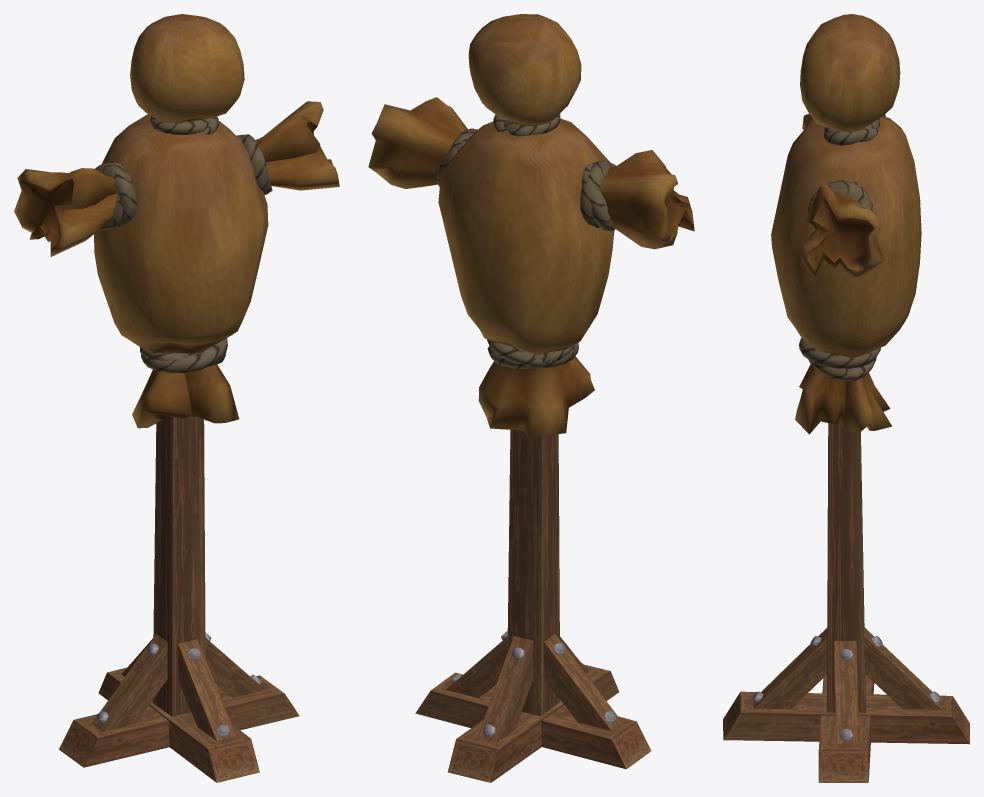
Rendered from Dummy.gltf.
3 views of the same model, side by side, from view 1: azimuth 30°, elevation 25°; view 2: azimuth 150°, elevation 25°; view 3: azimuth 270°, elevation 25° (orthographic).
Parts seen in each view (by area): view 1: Dummy; view 2: Dummy; view 3: Dummy.
Boxes of the visible parts, x1,y1,x2,y2 form: Dummy: [14, 14, 339, 782]; Dummy: [368, 14, 694, 782]; Dummy: [723, 14, 969, 782].
Bounding box in the file's own units: 0.8085 × 1.86 × 0.5846.
3 materials, 3 textured.
